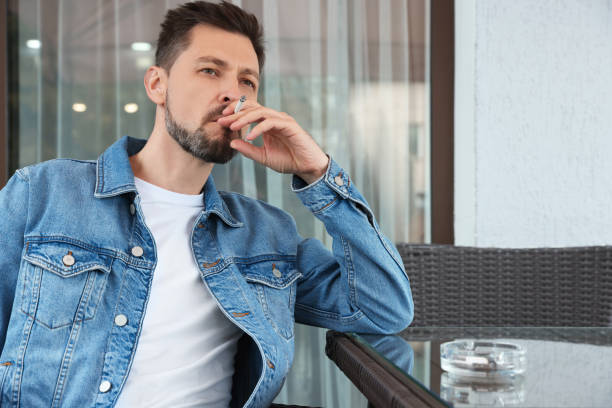cigarette: (234, 94, 246, 117)
